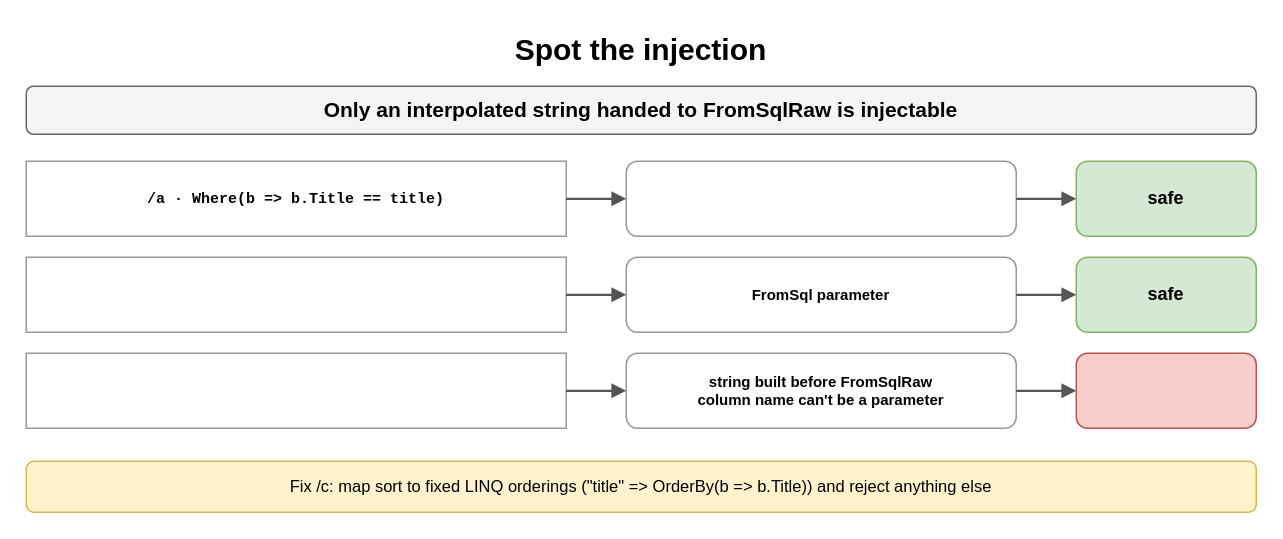
The diagram is 1283 pixels wide and 539 high, and some of its shapes have lost their labels. Each missing label, with the centre of its shape:
/b · FromSql($"... {title}"): [295,294]
/c · FromSqlRaw($"... ORDER BY {sort}"): [295,390]
injectable: [1165,390]
LINQ parameter: [820,198]
